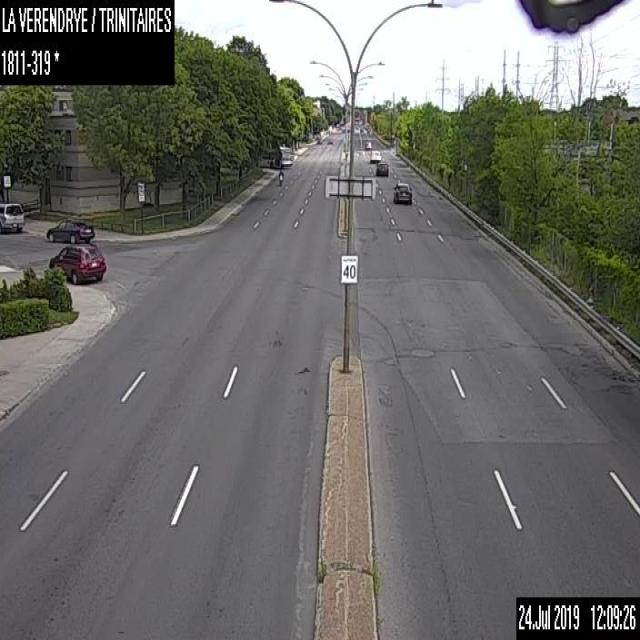bus: (261, 142, 292, 167)
vehicle: (48, 242, 106, 283), (46, 218, 94, 244), (0, 202, 24, 234), (393, 181, 411, 202), (375, 162, 388, 176), (370, 149, 380, 160), (278, 168, 283, 184), (364, 140, 370, 148), (327, 137, 332, 143)
